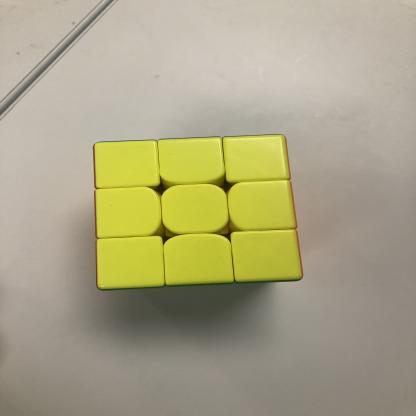SolvedCube: (74, 128, 316, 299)
